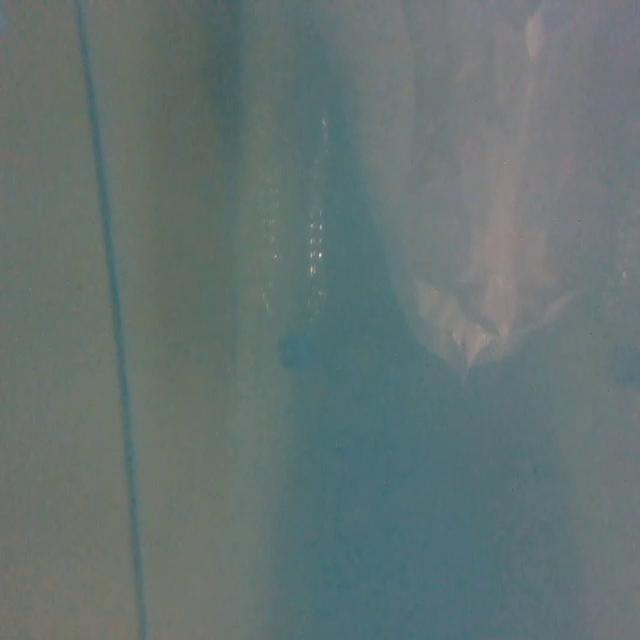plastic bags: (334, 0, 640, 396)
plastic bottle: (245, 92, 338, 388)
